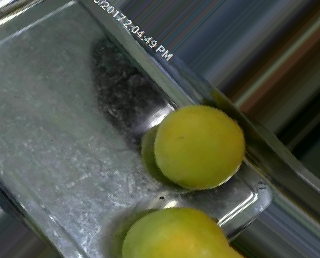Mango: (154, 103, 248, 193), (118, 205, 244, 256)
